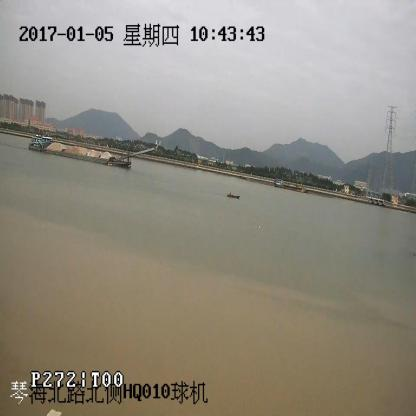Fishing Boat: (226, 192, 240, 199)
